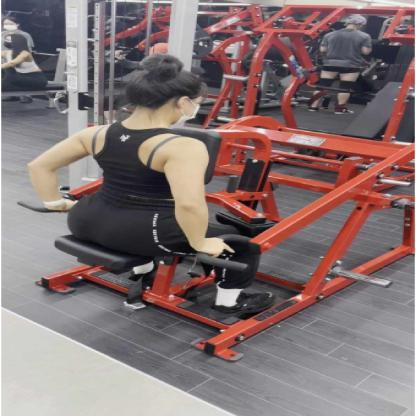seated dip machine: (14, 52, 416, 368)
